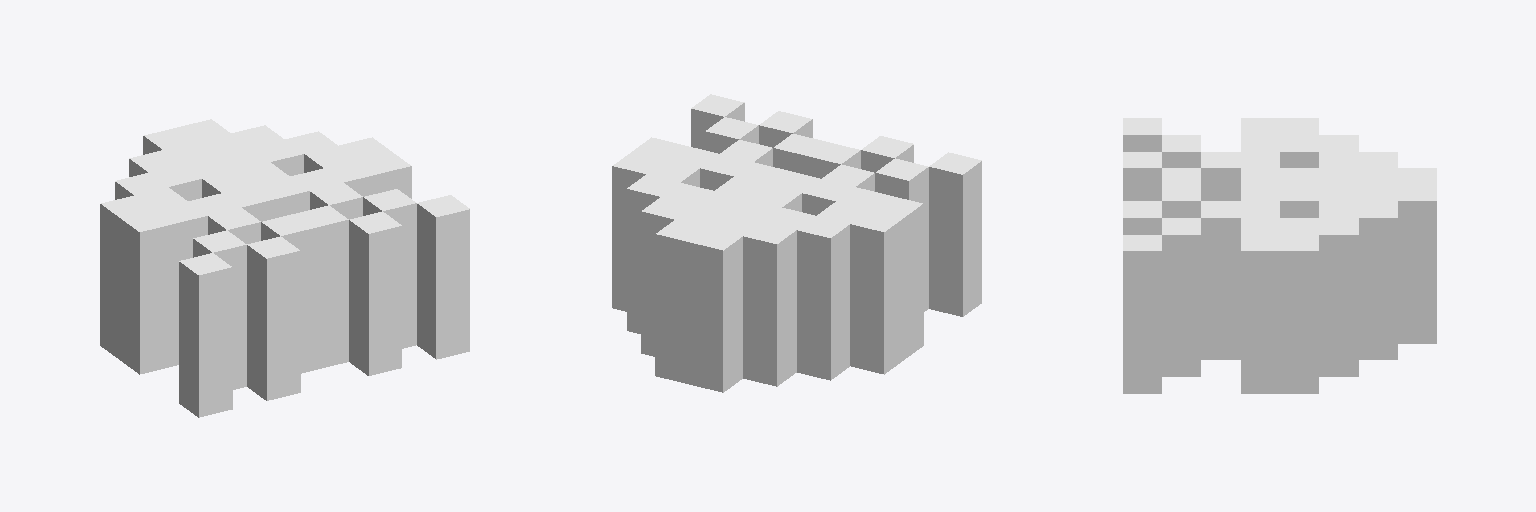
File: verde2.obj
The picture shows the model from 3 angles: view 1: azimuth 30°, elevation 25°; view 2: azimuth 150°, elevation 25°; view 3: azimuth 270°, elevation 25°; orthographic projection.
Parts seen in each view (by area): view 1: object 1; view 2: object 1; view 3: object 1.
Part boxes in pixels (bbox=[...]): object 1: bbox=[100, 119, 469, 417]; object 1: bbox=[612, 94, 981, 392]; object 1: bbox=[1123, 118, 1436, 393].
Bounding box in the file's own units: 0.8 × 0.4 × 0.8.